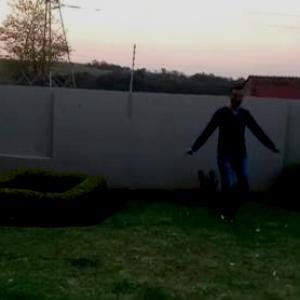land: (188, 95, 280, 224)
